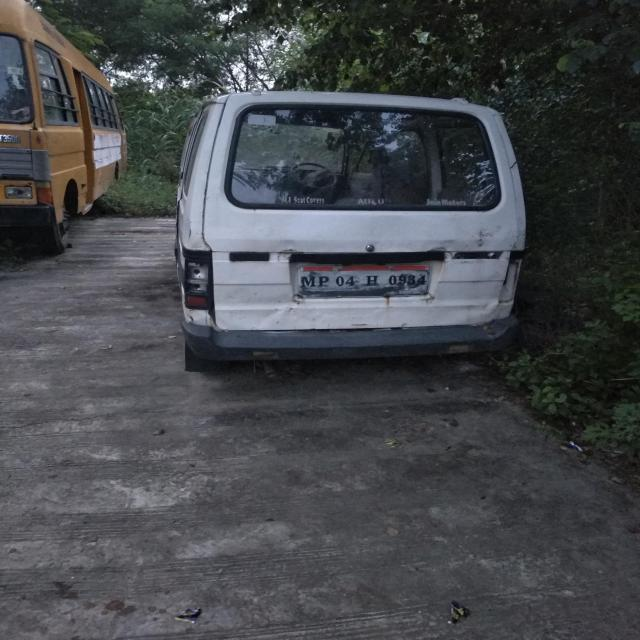plate: (294, 263, 431, 296)
